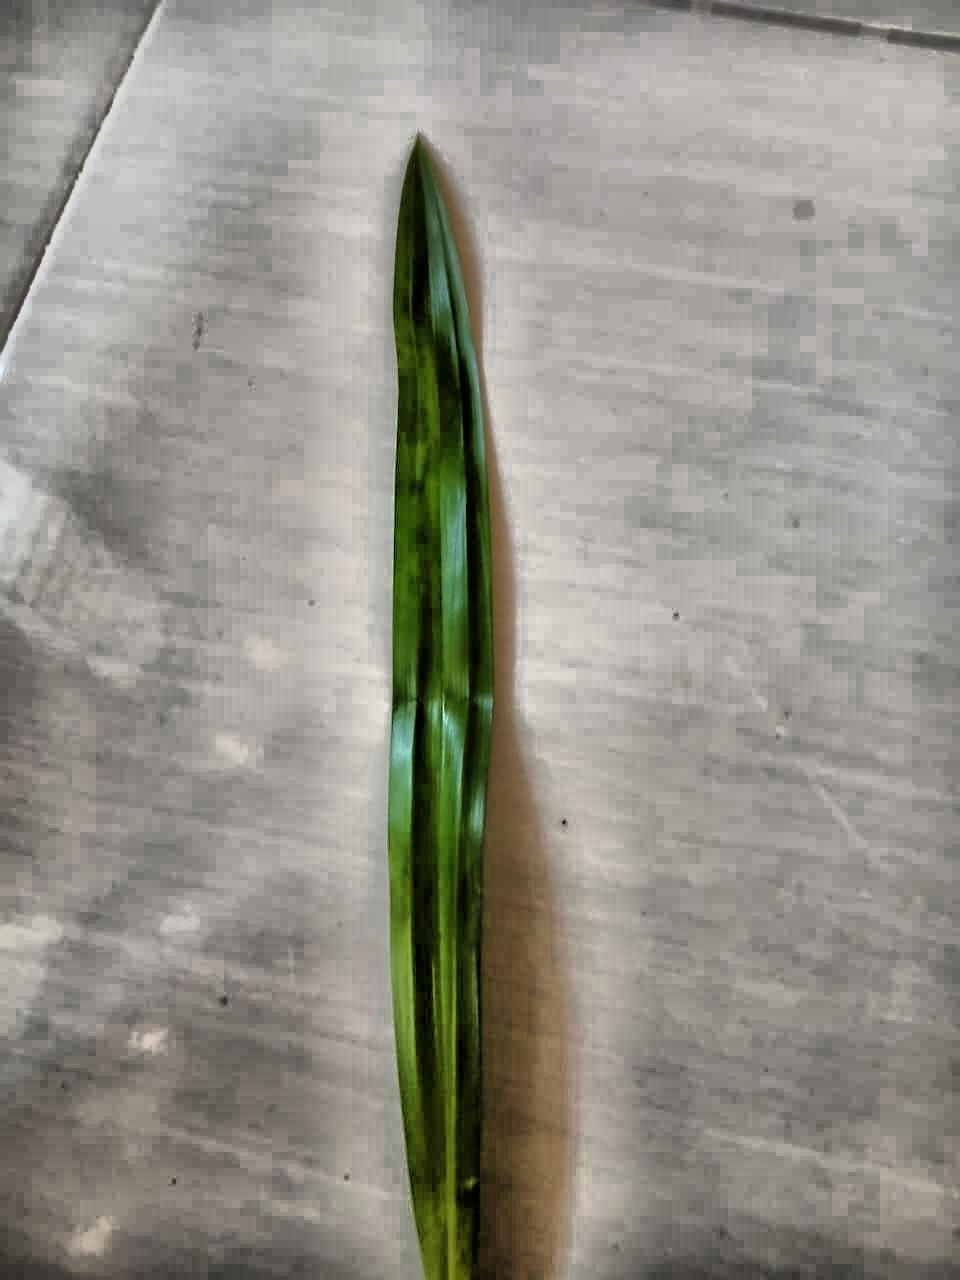daun pandan: (387, 137, 493, 1279)
